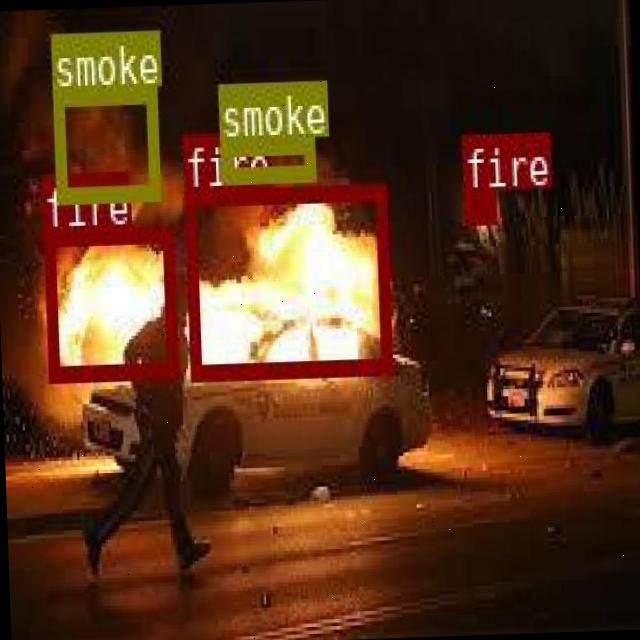fire: (183, 180, 389, 378), (42, 222, 175, 380), (462, 187, 494, 220)
smoke: (50, 85, 156, 200), (218, 134, 312, 178)
